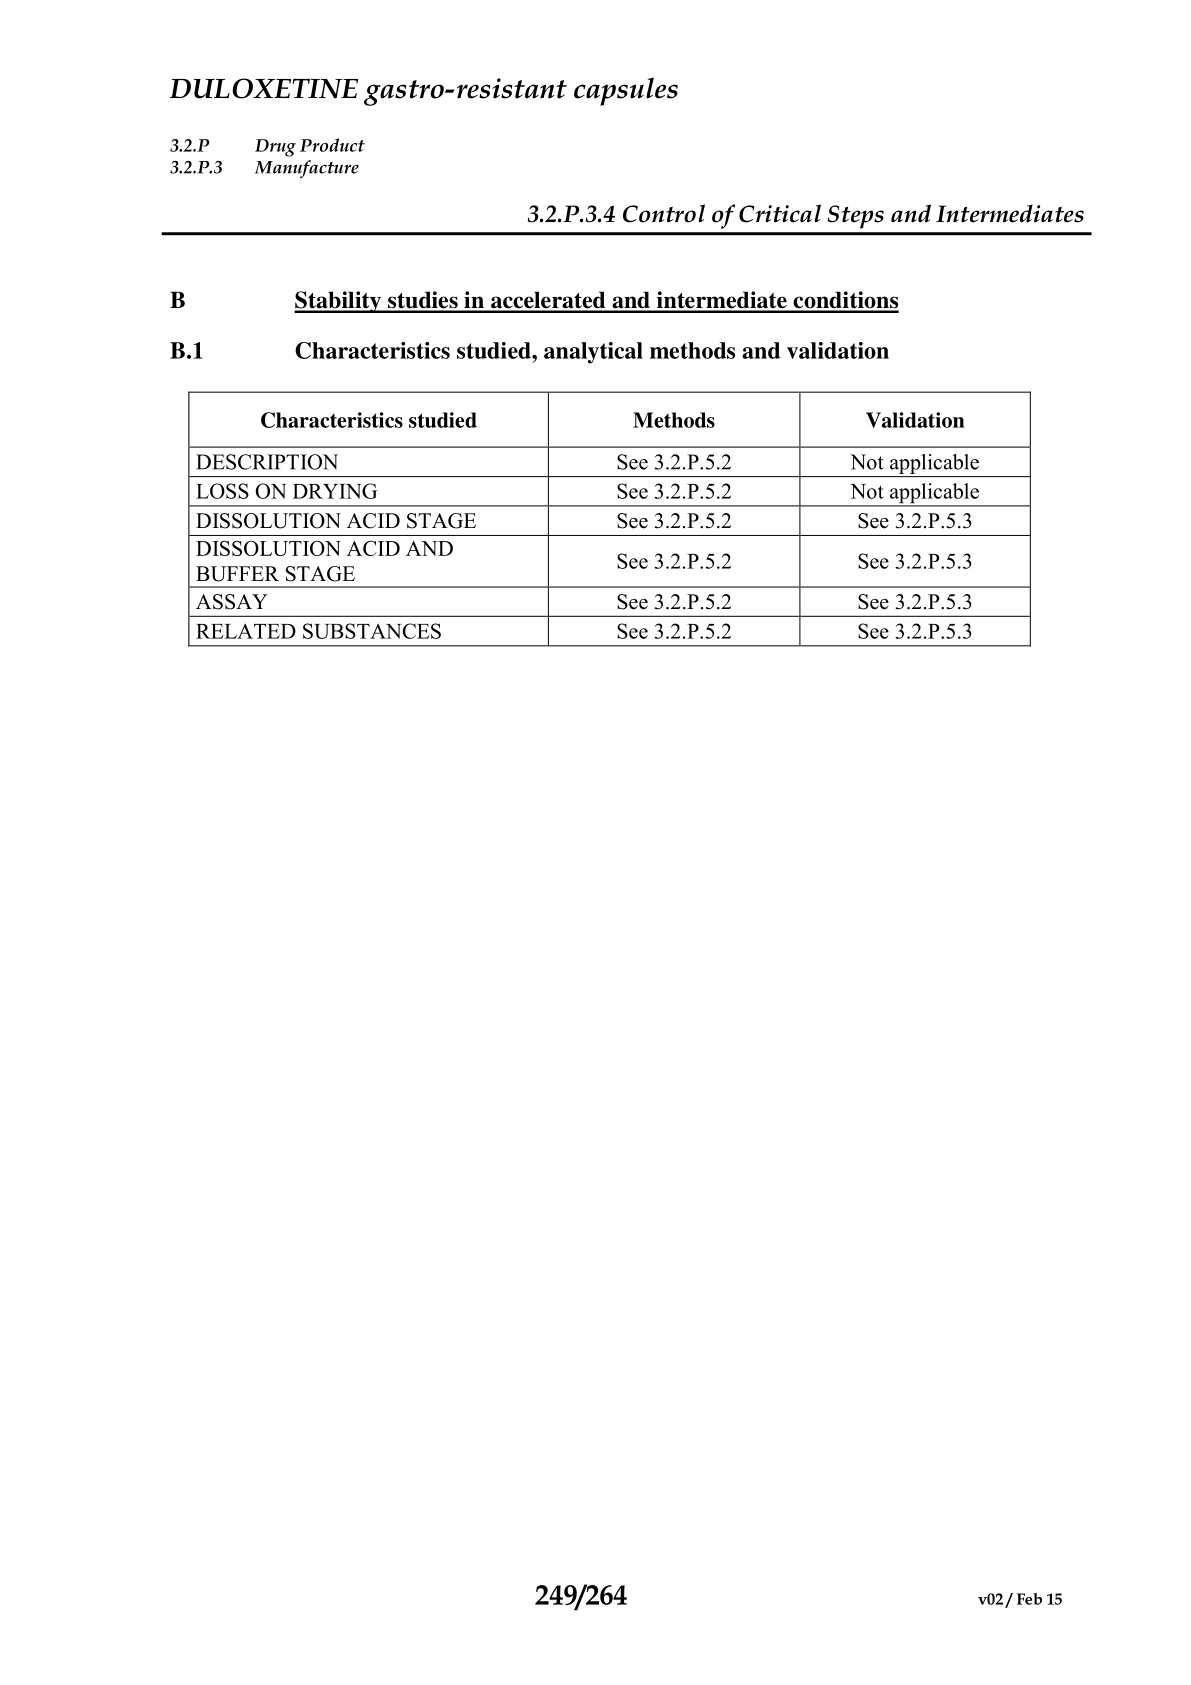full_lined: (187, 391, 1031, 647)
